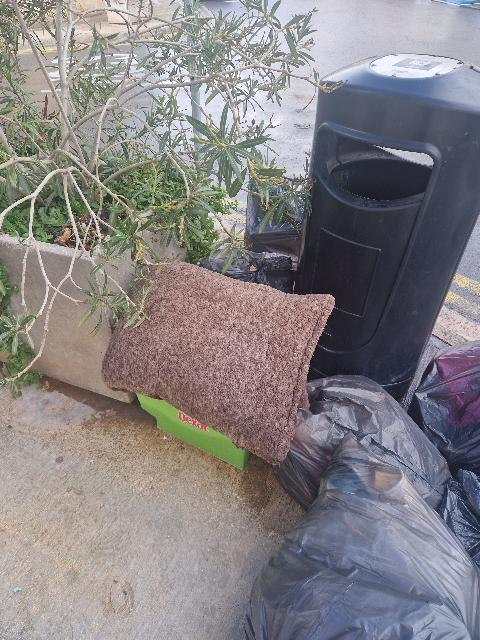Other: (101, 261, 334, 464), (137, 394, 251, 469)
Recyclable -Grey-: (245, 433, 480, 640), (275, 376, 450, 510), (408, 340, 480, 476), (439, 469, 480, 569)
